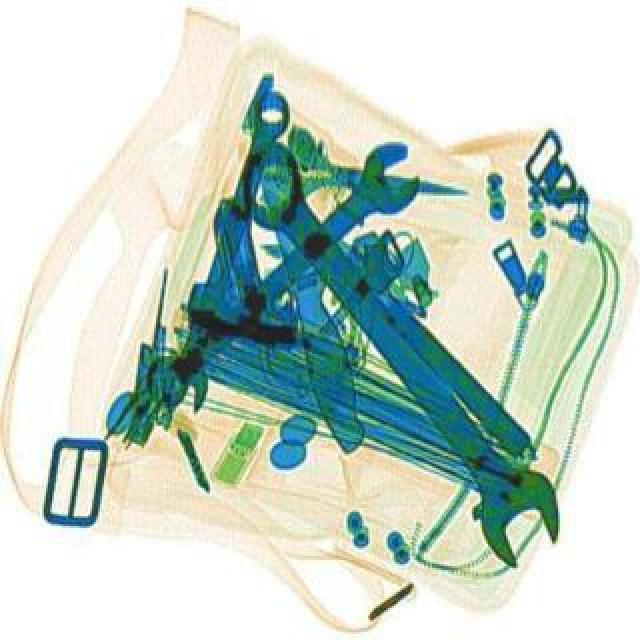gun: (174, 194, 394, 374)
knife: (302, 214, 534, 458), (234, 108, 380, 456), (276, 122, 476, 216)
scissors: (214, 128, 584, 570), (126, 128, 438, 414), (144, 84, 304, 416)
